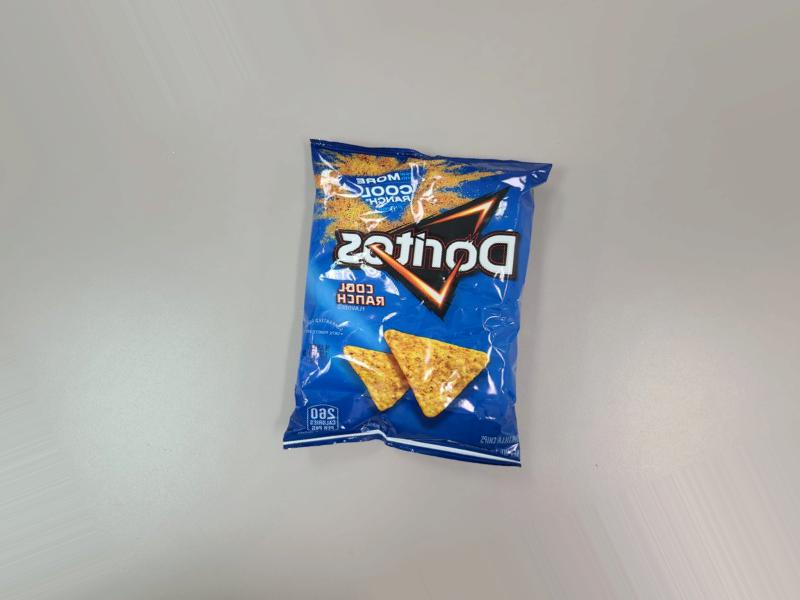doritos: (262, 151, 533, 459)
